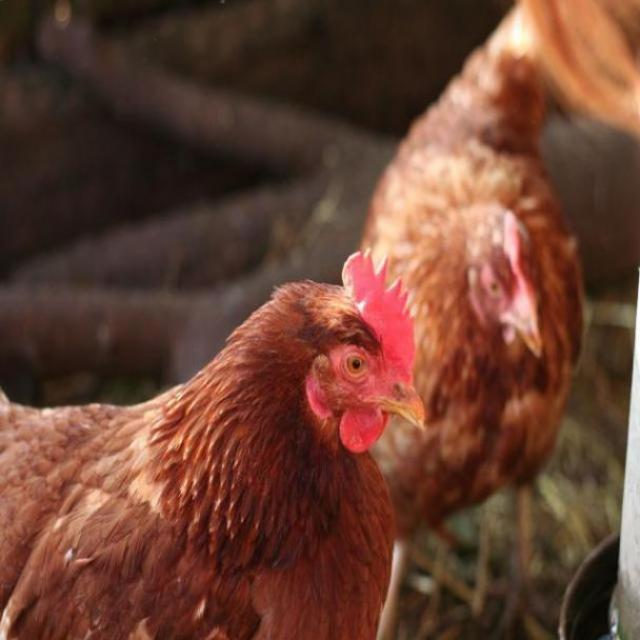Chicken: (0, 250, 424, 639), (354, 41, 601, 639)
